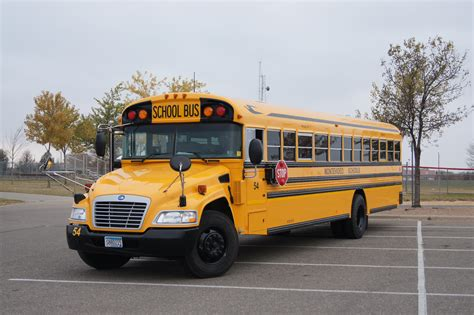bus: (71, 100, 404, 265)
